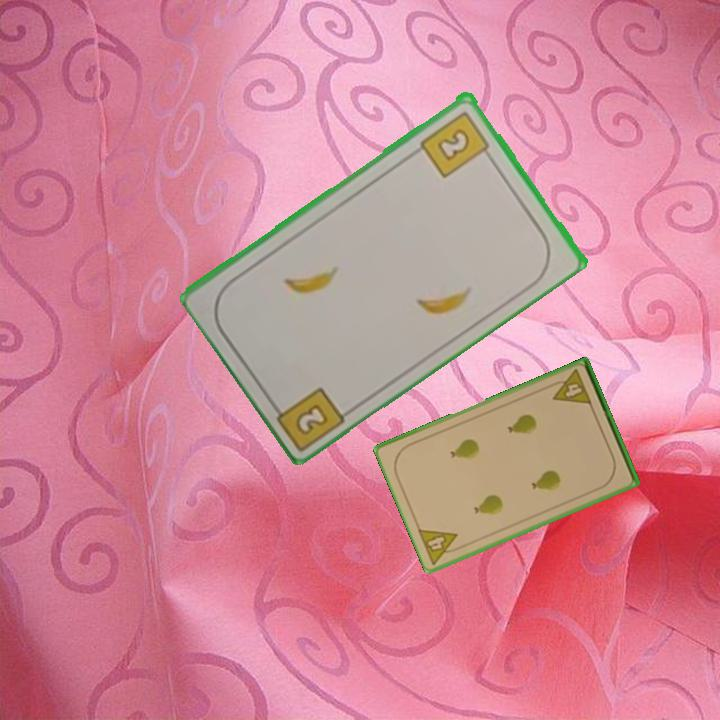2b: (416, 107, 496, 180), (266, 382, 349, 450)
4p: (414, 525, 467, 567), (545, 366, 594, 408)
